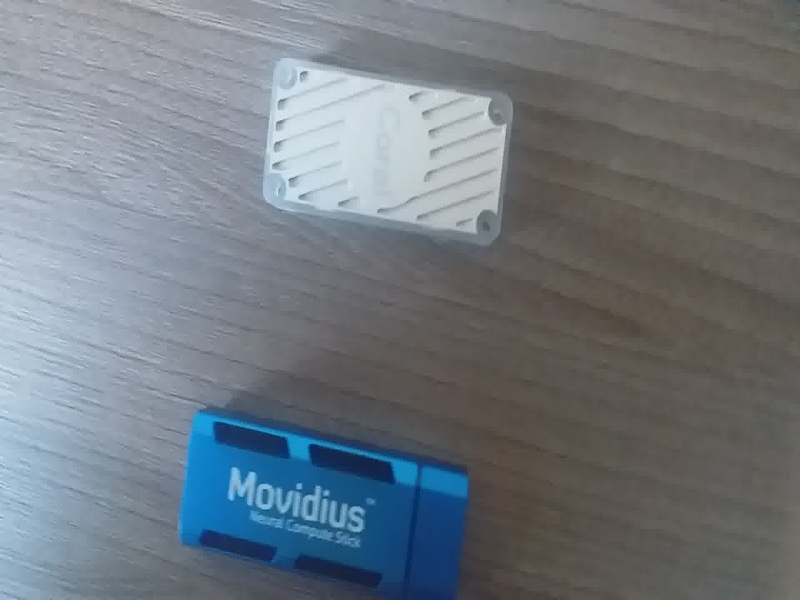coral: (258, 43, 525, 254)
movidius: (171, 407, 481, 600)
